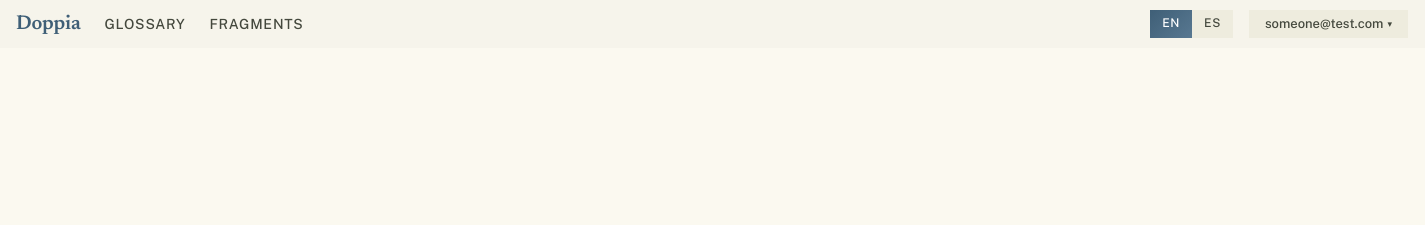
Scenario: account menu › carries profile, progress and sign out
Step 1. Click the button "someone@test.com ▾" → [1328, 24], box [1249,10,1408,38]
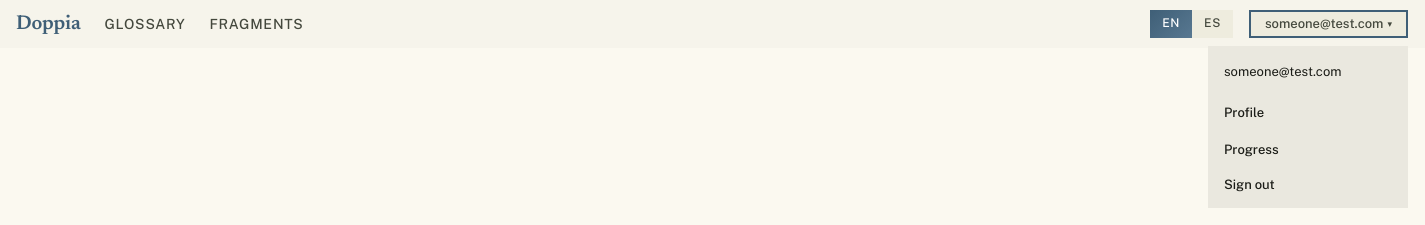
Now the menu item "Profile" is shown, box [1224,105,1264,120]
Now the menu item "Progress" is shown, box [1224,142,1279,157]
Now the menu item "Sign out" is shown, box [1208,169,1408,200]
